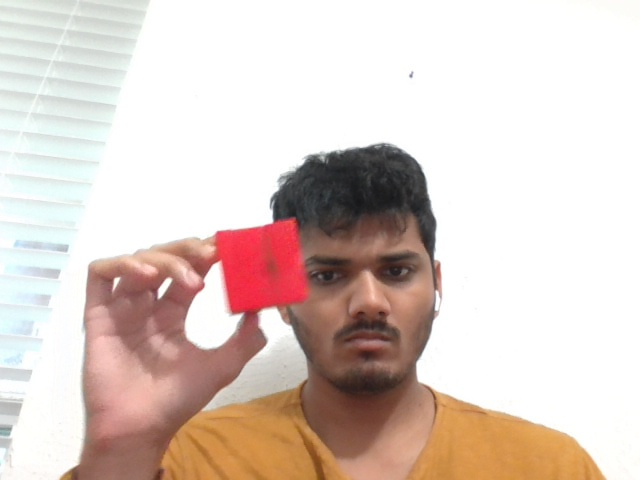RedBlock: (216, 218, 312, 312)
